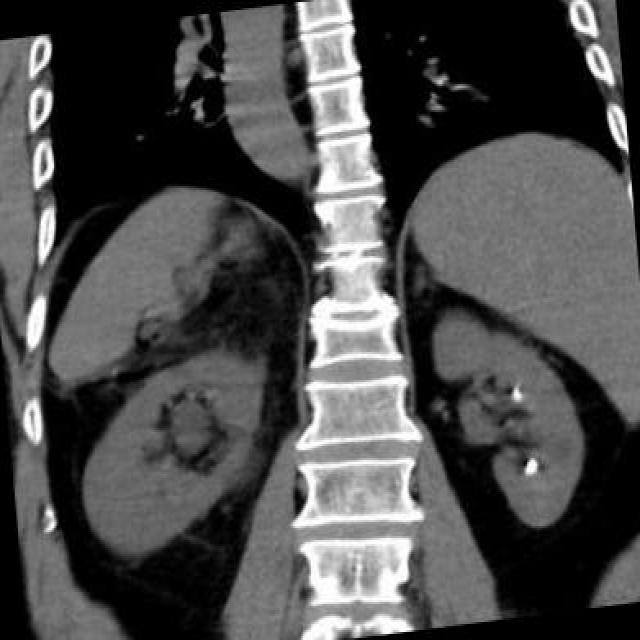Tas_Var: (518, 454, 541, 478), (505, 384, 525, 402)
